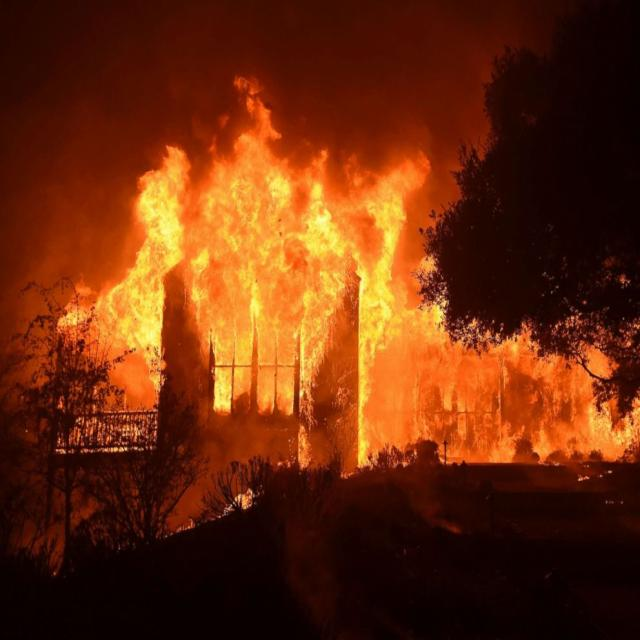Fire: (0, 78, 640, 575)
